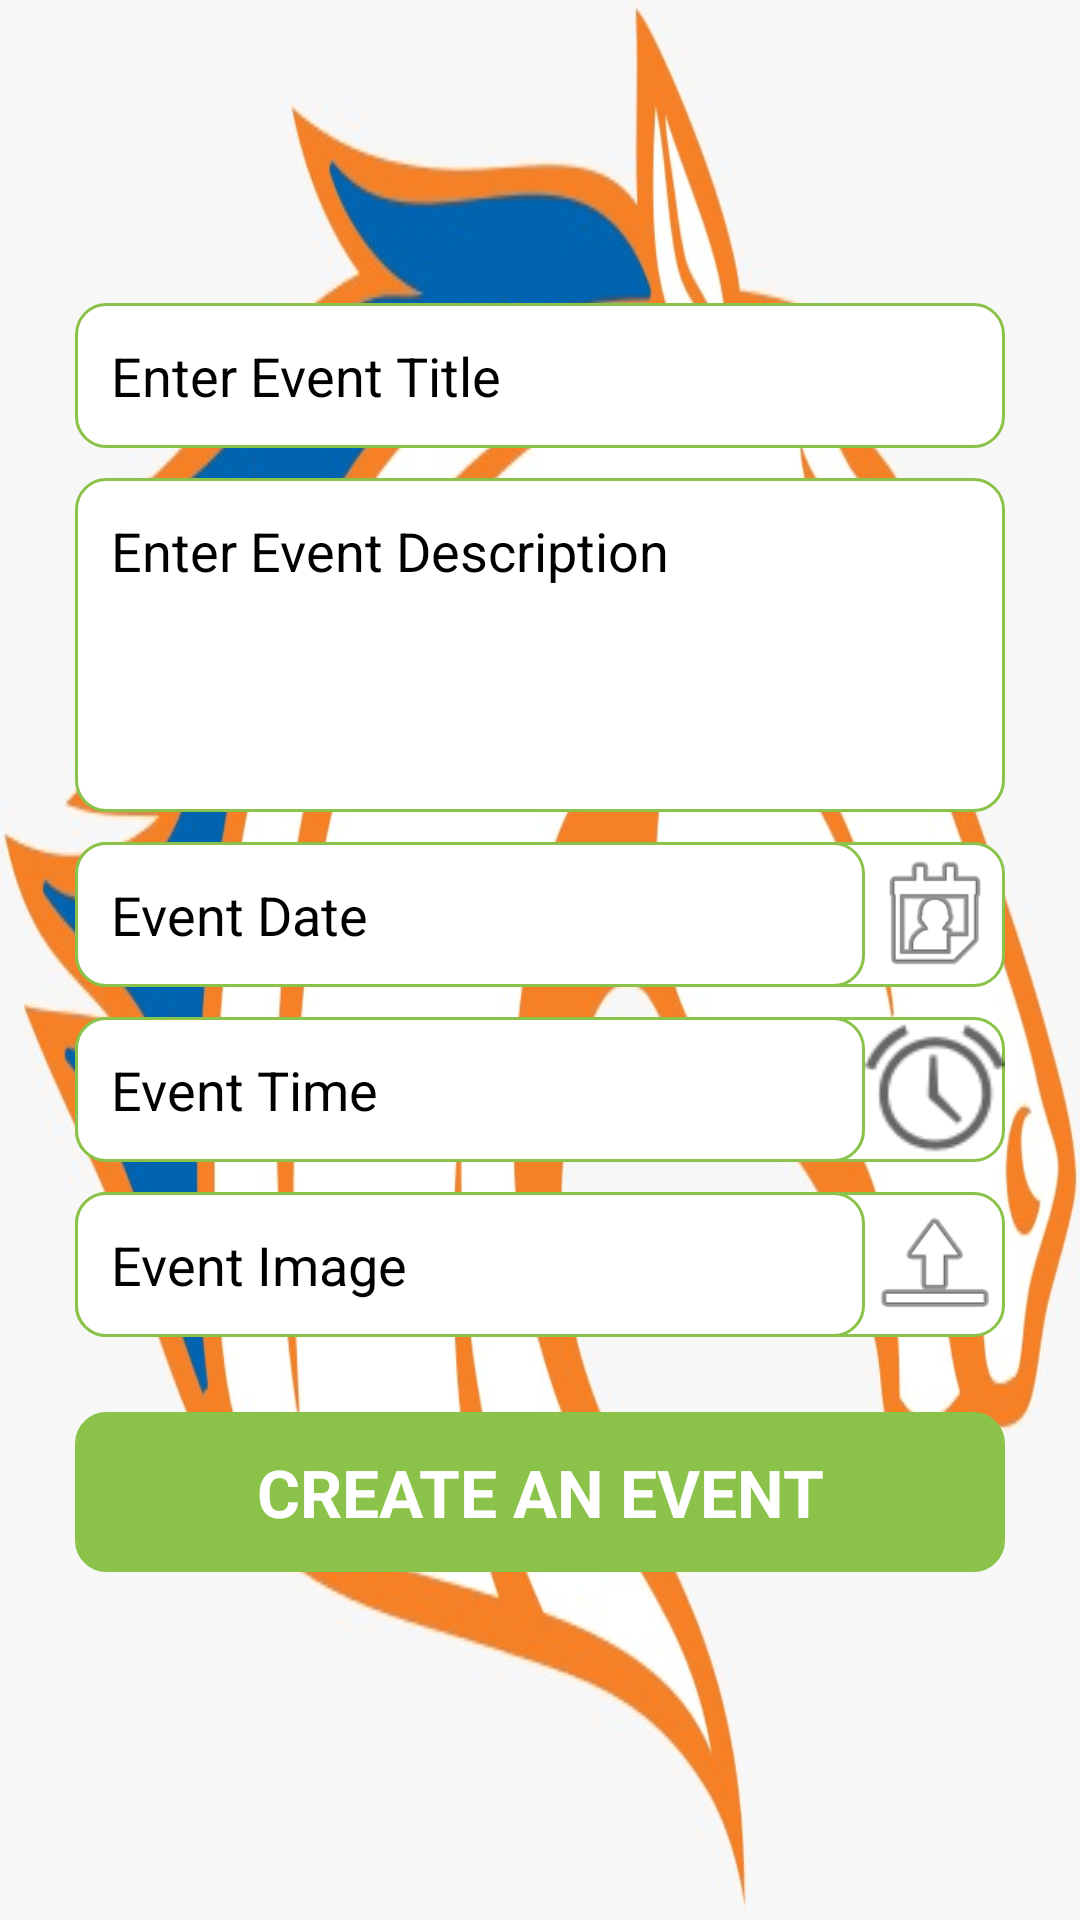

Where to tap for icons on this 1080 x 1920 app screen, as (x,y):
calendar: (935,913)
upload: (935,1262)
